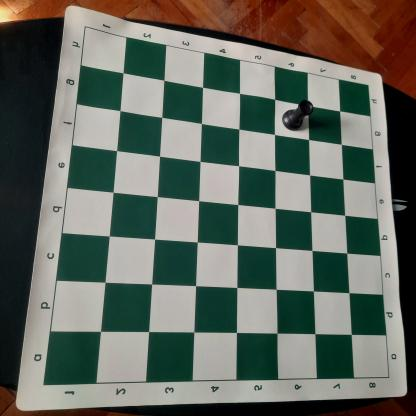black-rook: (278, 99, 315, 132)
